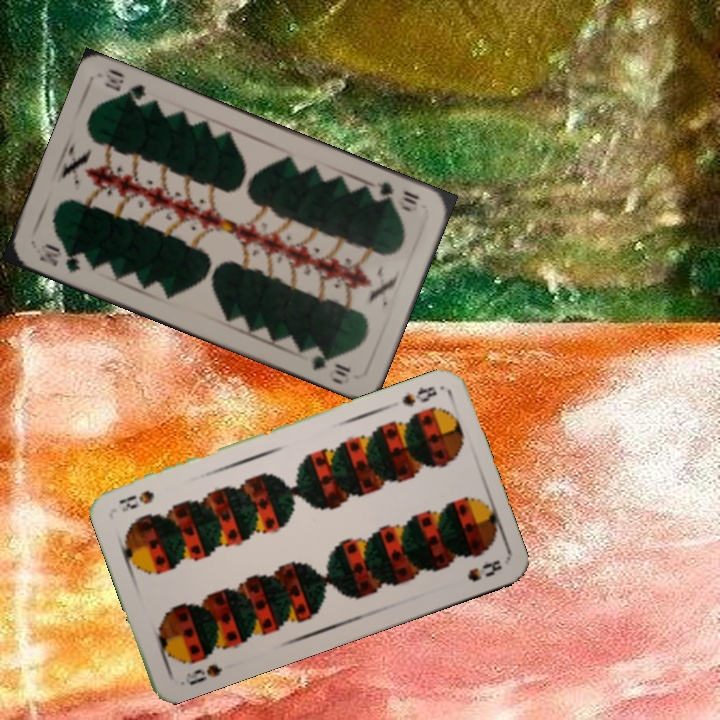G10: (371, 178, 423, 213), (35, 239, 83, 276)
S8: (176, 660, 225, 689), (398, 382, 440, 409)
